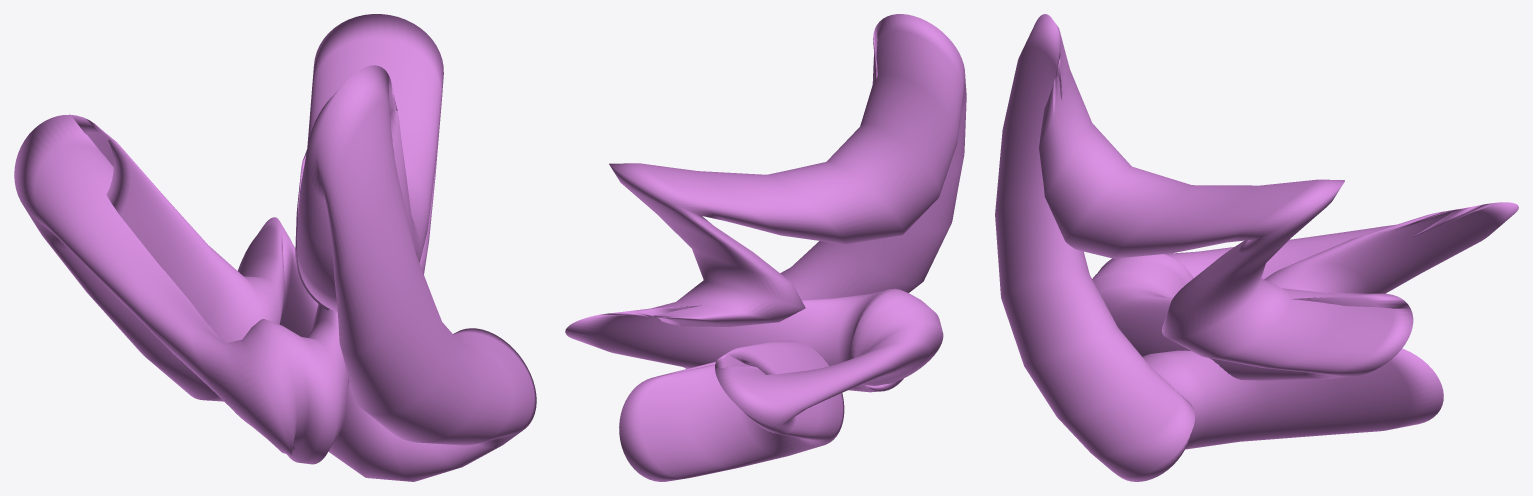
3 renders of one model, left to right at view 1: azimuth 30°, elevation 25°; view 2: azimuth 150°, elevation 25°; view 3: azimuth 270°, elevation 25°, orthographic. The views are drawn at different scales.
Parts seen in each view (by area): view 1: VA_CE; view 2: VA_CE; view 3: VA_CE.
Part boxes in pixels (box(x1,y1,x2,y2)): VA_CE: box(14, 14, 536, 481); VA_CE: box(565, 14, 966, 481); VA_CE: box(995, 14, 1518, 481).
Bounding box in the file's own units: 6.97 × 9.45 × 11.22.
